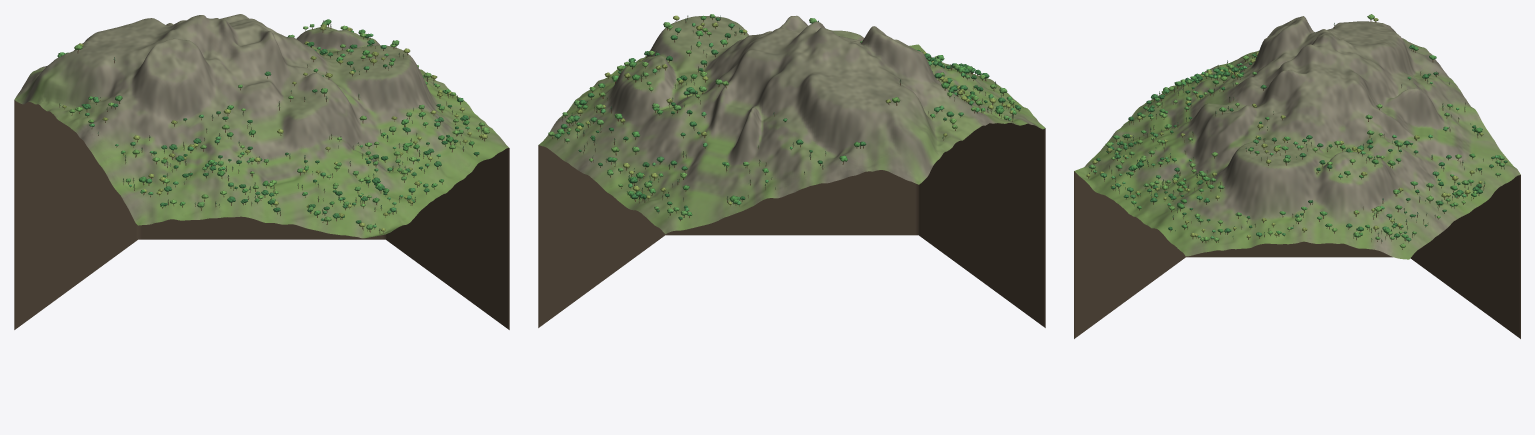
The picture shows the model from 3 angles, left to right: view 1: azimuth 30°, elevation 25°; view 2: azimuth 150°, elevation 25°; view 3: azimuth 270°, elevation 25°; orthographic projection. The views are drawn at different scales.
Parts seen in each view (by area): view 1: terrain, hex_side_cut, broadleaf_canopy, trunks; view 2: terrain, hex_side_cut, broadleaf_canopy, trunks; view 3: terrain, hex_side_cut, broadleaf_canopy, trunks, conifer_canopy.
Part boxes in pixels (x1,y1,x2,y2): terrain: [14, 14, 508, 238]; hex_side_cut: [14, 100, 509, 329]; broadleaf_canopy: [57, 19, 489, 231]; trunks: [59, 21, 486, 233]; terrain: [539, 15, 1044, 233]; hex_side_cut: [538, 123, 1045, 327]; broadleaf_canopy: [548, 14, 1021, 219]; trunks: [552, 16, 1019, 220]; terrain: [1074, 16, 1520, 259]; hex_side_cut: [1074, 171, 1520, 338]; broadleaf_canopy: [1086, 14, 1507, 247]; trunks: [1088, 20, 1505, 249]; conifer_canopy: [1089, 23, 1504, 241].
Bounding box in the file's own units: 4330 × 3513 × 5000.
Materials: 6 (1 with a texture image).
